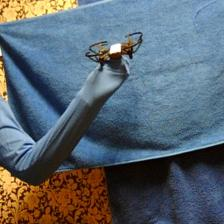drone: (84, 31, 144, 68)
